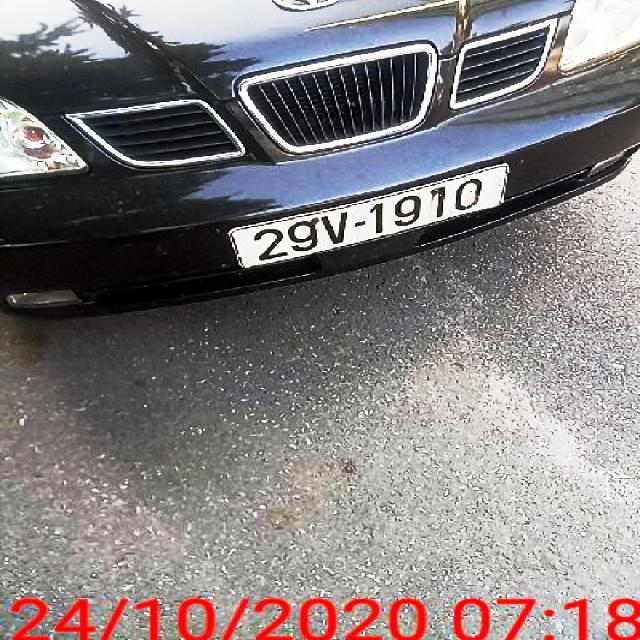license_plate: (227, 166, 509, 269)
